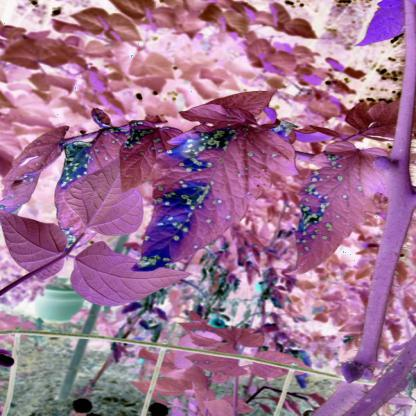tomato leaf: (1, 209, 68, 281)
tomato septoria leaf spot: (132, 126, 273, 272), (287, 140, 374, 270), (123, 123, 164, 198)
